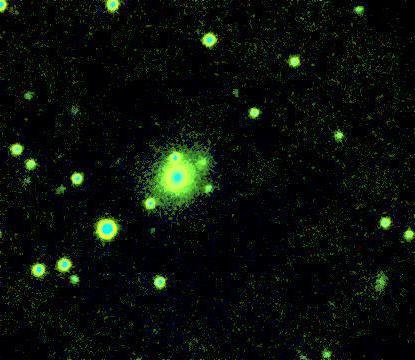star: (189, 147, 219, 177)
